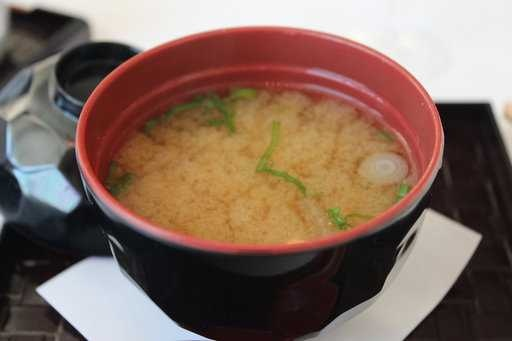soup: (82, 59, 390, 246)
